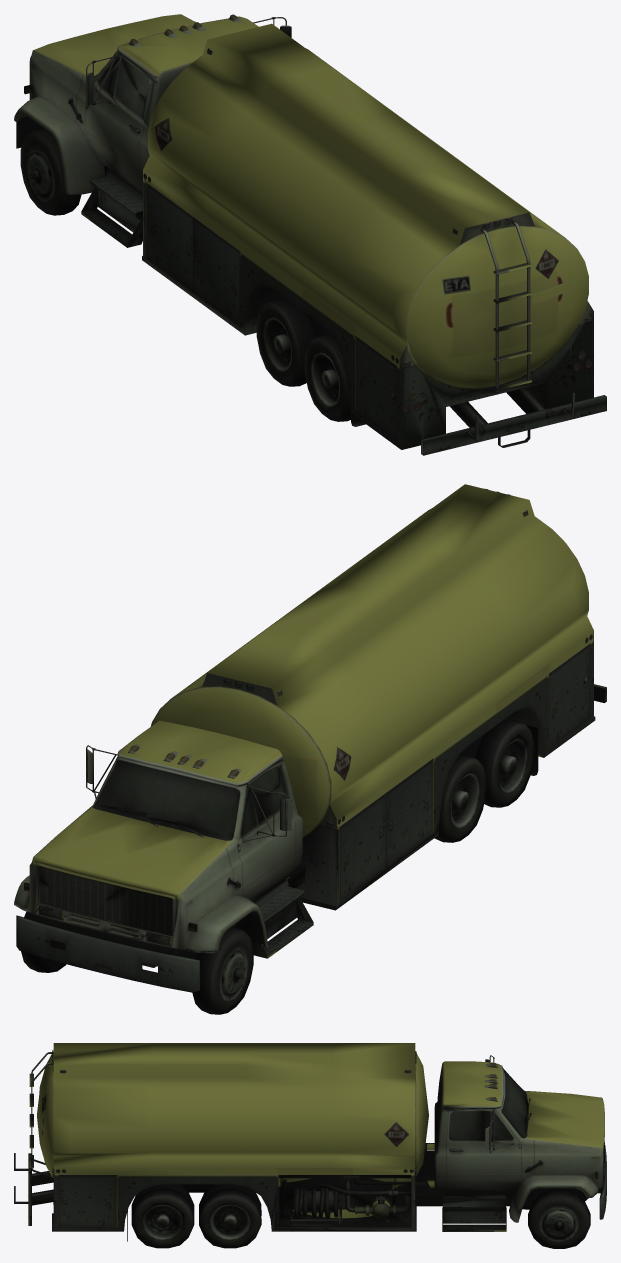
File: af_fuel.glb
3 views of the same model, one above another, from view 1: azimuth 30°, elevation 25°; view 2: azimuth 150°, elevation 25°; view 3: azimuth 270°, elevation 25° (orthographic). The views are drawn at different scales.
Visible parts, largest first — view 1: body|airport_fuel_truck.tga; view 2: body|airport_fuel_truck.tga; view 3: body|airport_fuel_truck.tga.
Part boxes in pixels (x1=…): body|airport_fuel_truck.tga: x1=14, y1=14, x2=606, y2=455; body|airport_fuel_truck.tga: x1=14, y1=484, x2=606, y2=1014; body|airport_fuel_truck.tga: x1=14, y1=1043, x2=606, y2=1248.
Size of the model in its own units: 2.71 by 2.87 by 9.46.
Materials: 2 (1 with a texture image).
